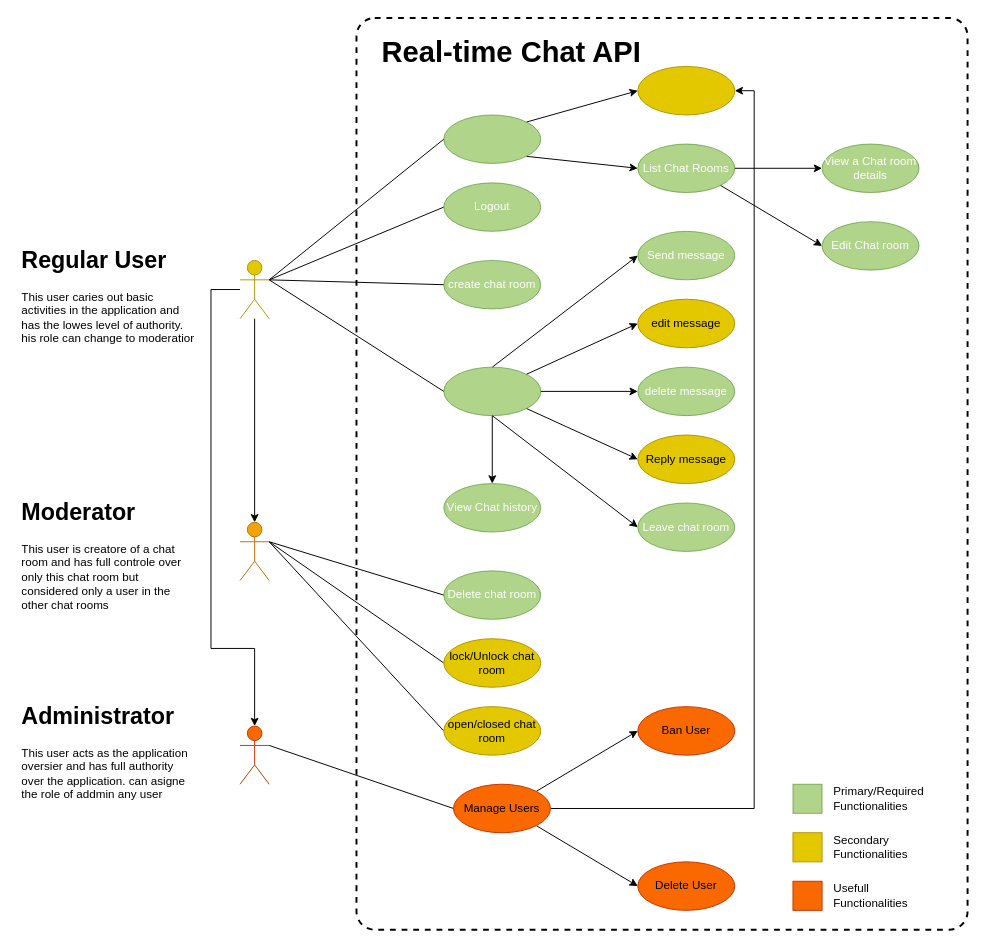
The diagram is 985 pixels wide and 947 high, and some of its shapes have lost their labels. Here are the shapes that lost their labels. From the top down, the box of each, then its label:
(637, 65, 735, 115): Update user data
(443, 114, 541, 163): Login
(239, 259, 269, 319): Regular User
(443, 366, 541, 416): Join chat room
(239, 521, 269, 581): Moderator
(239, 725, 269, 784): Administrator
